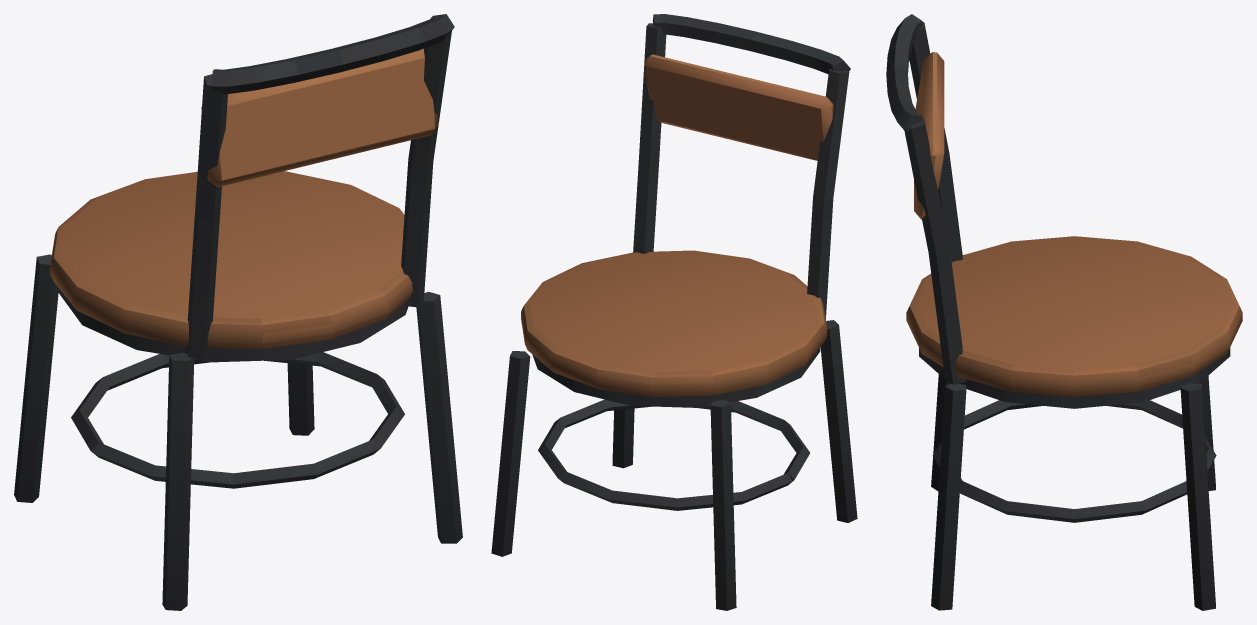
The model's file is cafe-chair.glb.
3 views of the same model, side by side, from view 1: azimuth 30°, elevation 25°; view 2: azimuth 150°, elevation 25°; view 3: azimuth 270°, elevation 25° (orthographic). The views are drawn at different scales.
Parts seen in each view (by area): view 1: cafe-chair; view 2: cafe-chair; view 3: cafe-chair.
Part boxes in pixels (x1,y1,x2,y2): cafe-chair: (14,14,462,610); cafe-chair: (491,14,857,610); cafe-chair: (886,14,1242,610).
Size of the model in its own units: 0.4 by 0.6333 by 0.424.
